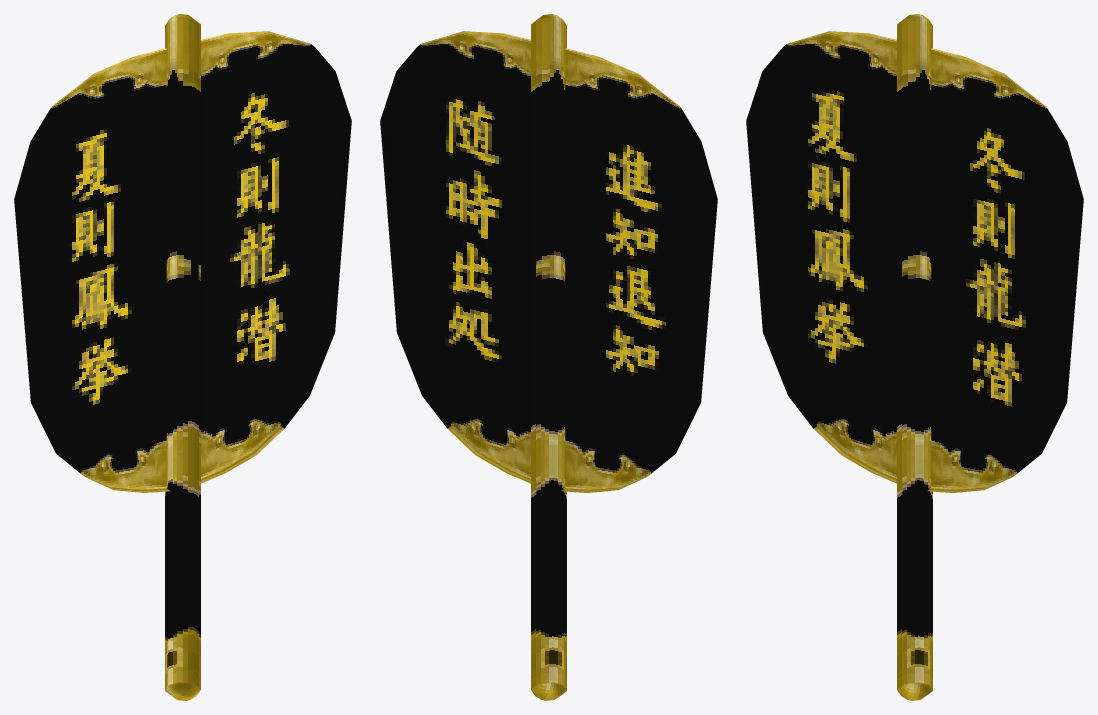
The model's file is ps2_save-icons_nihonsumoukyoukaikounin-nihonoozumou-kakutou-hen.glb.
The picture shows the model from 3 angles, left to right: view 1: azimuth 30°, elevation 25°; view 2: azimuth 150°, elevation 25°; view 3: azimuth 330°, elevation 25°; orthographic projection.
Visible parts, largest first — view 1: icon_n.ico; view 2: icon_n.ico; view 3: icon_n.ico.
Part boxes in pixels (x1,y1,x2,y2): icon_n.ico: [14, 14, 351, 700]; icon_n.ico: [380, 14, 717, 700]; icon_n.ico: [746, 14, 1083, 700].
Size of the model in its own units: 2.44 by 4.76 by 0.2319.
Materials: 1 (1 with a texture image).
